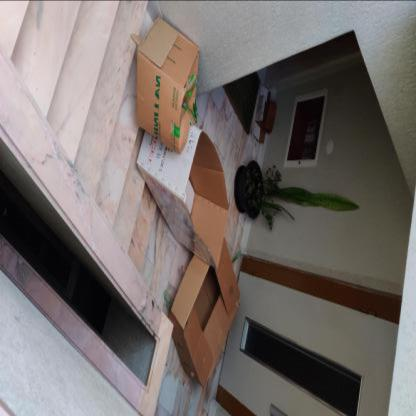Carton: (137, 123, 229, 269), (168, 238, 240, 389), (130, 16, 199, 154), (254, 84, 278, 143)
